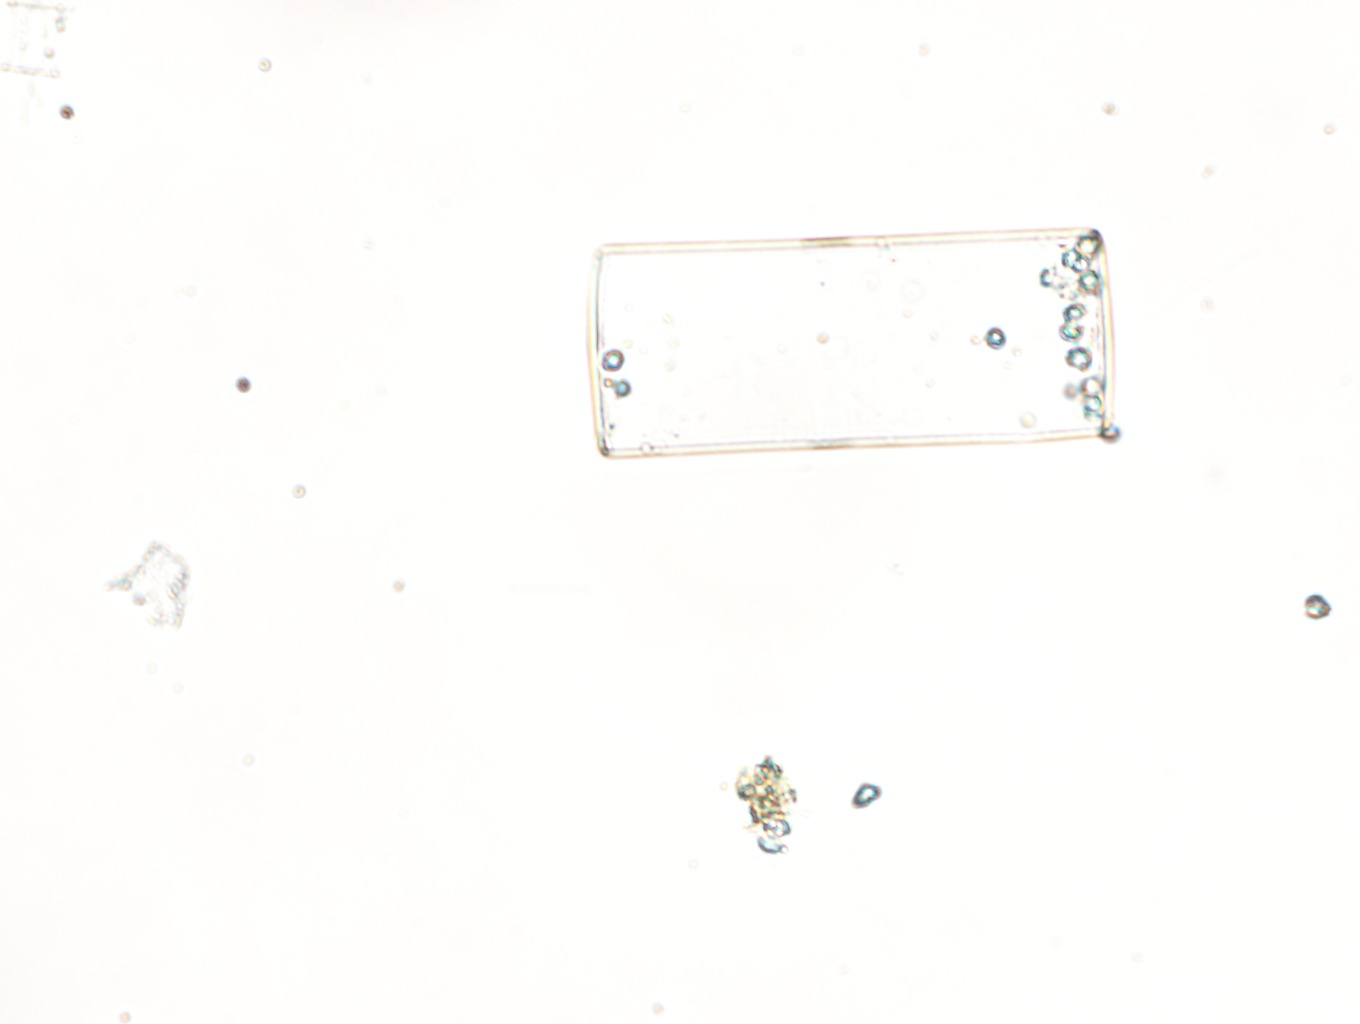guinardia flaccida: (592, 225, 1115, 460)
